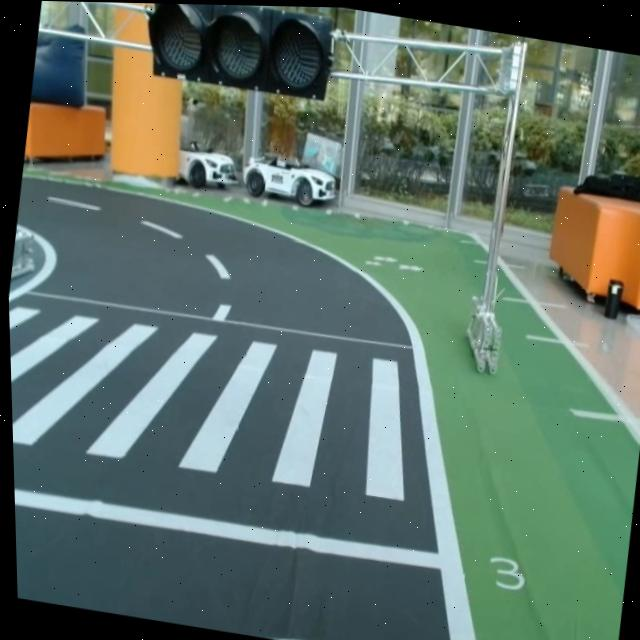traffic-light: (137, 3, 344, 107)
